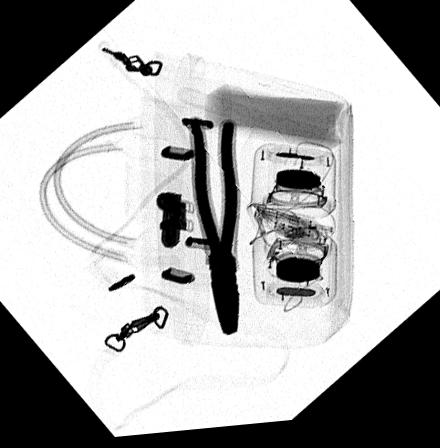Pliers: (190, 122, 240, 339)
